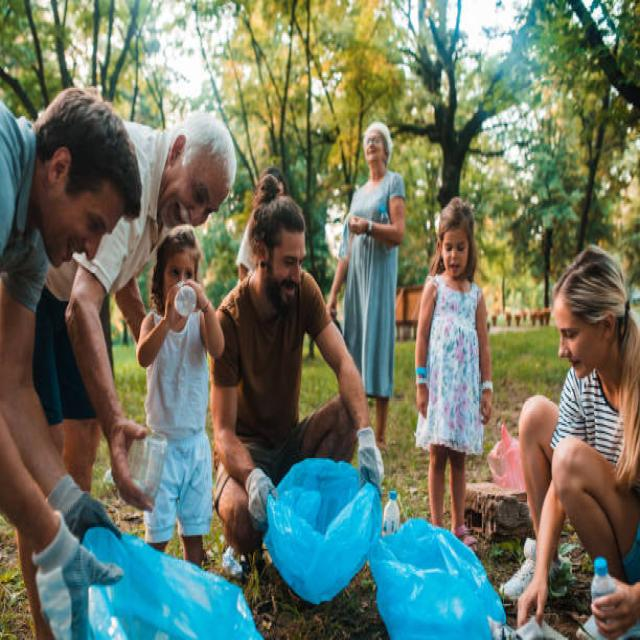trash: (100, 459, 508, 640)
